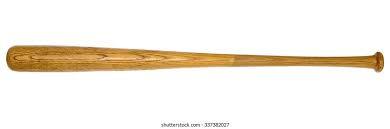bat: (6, 44, 385, 73)
